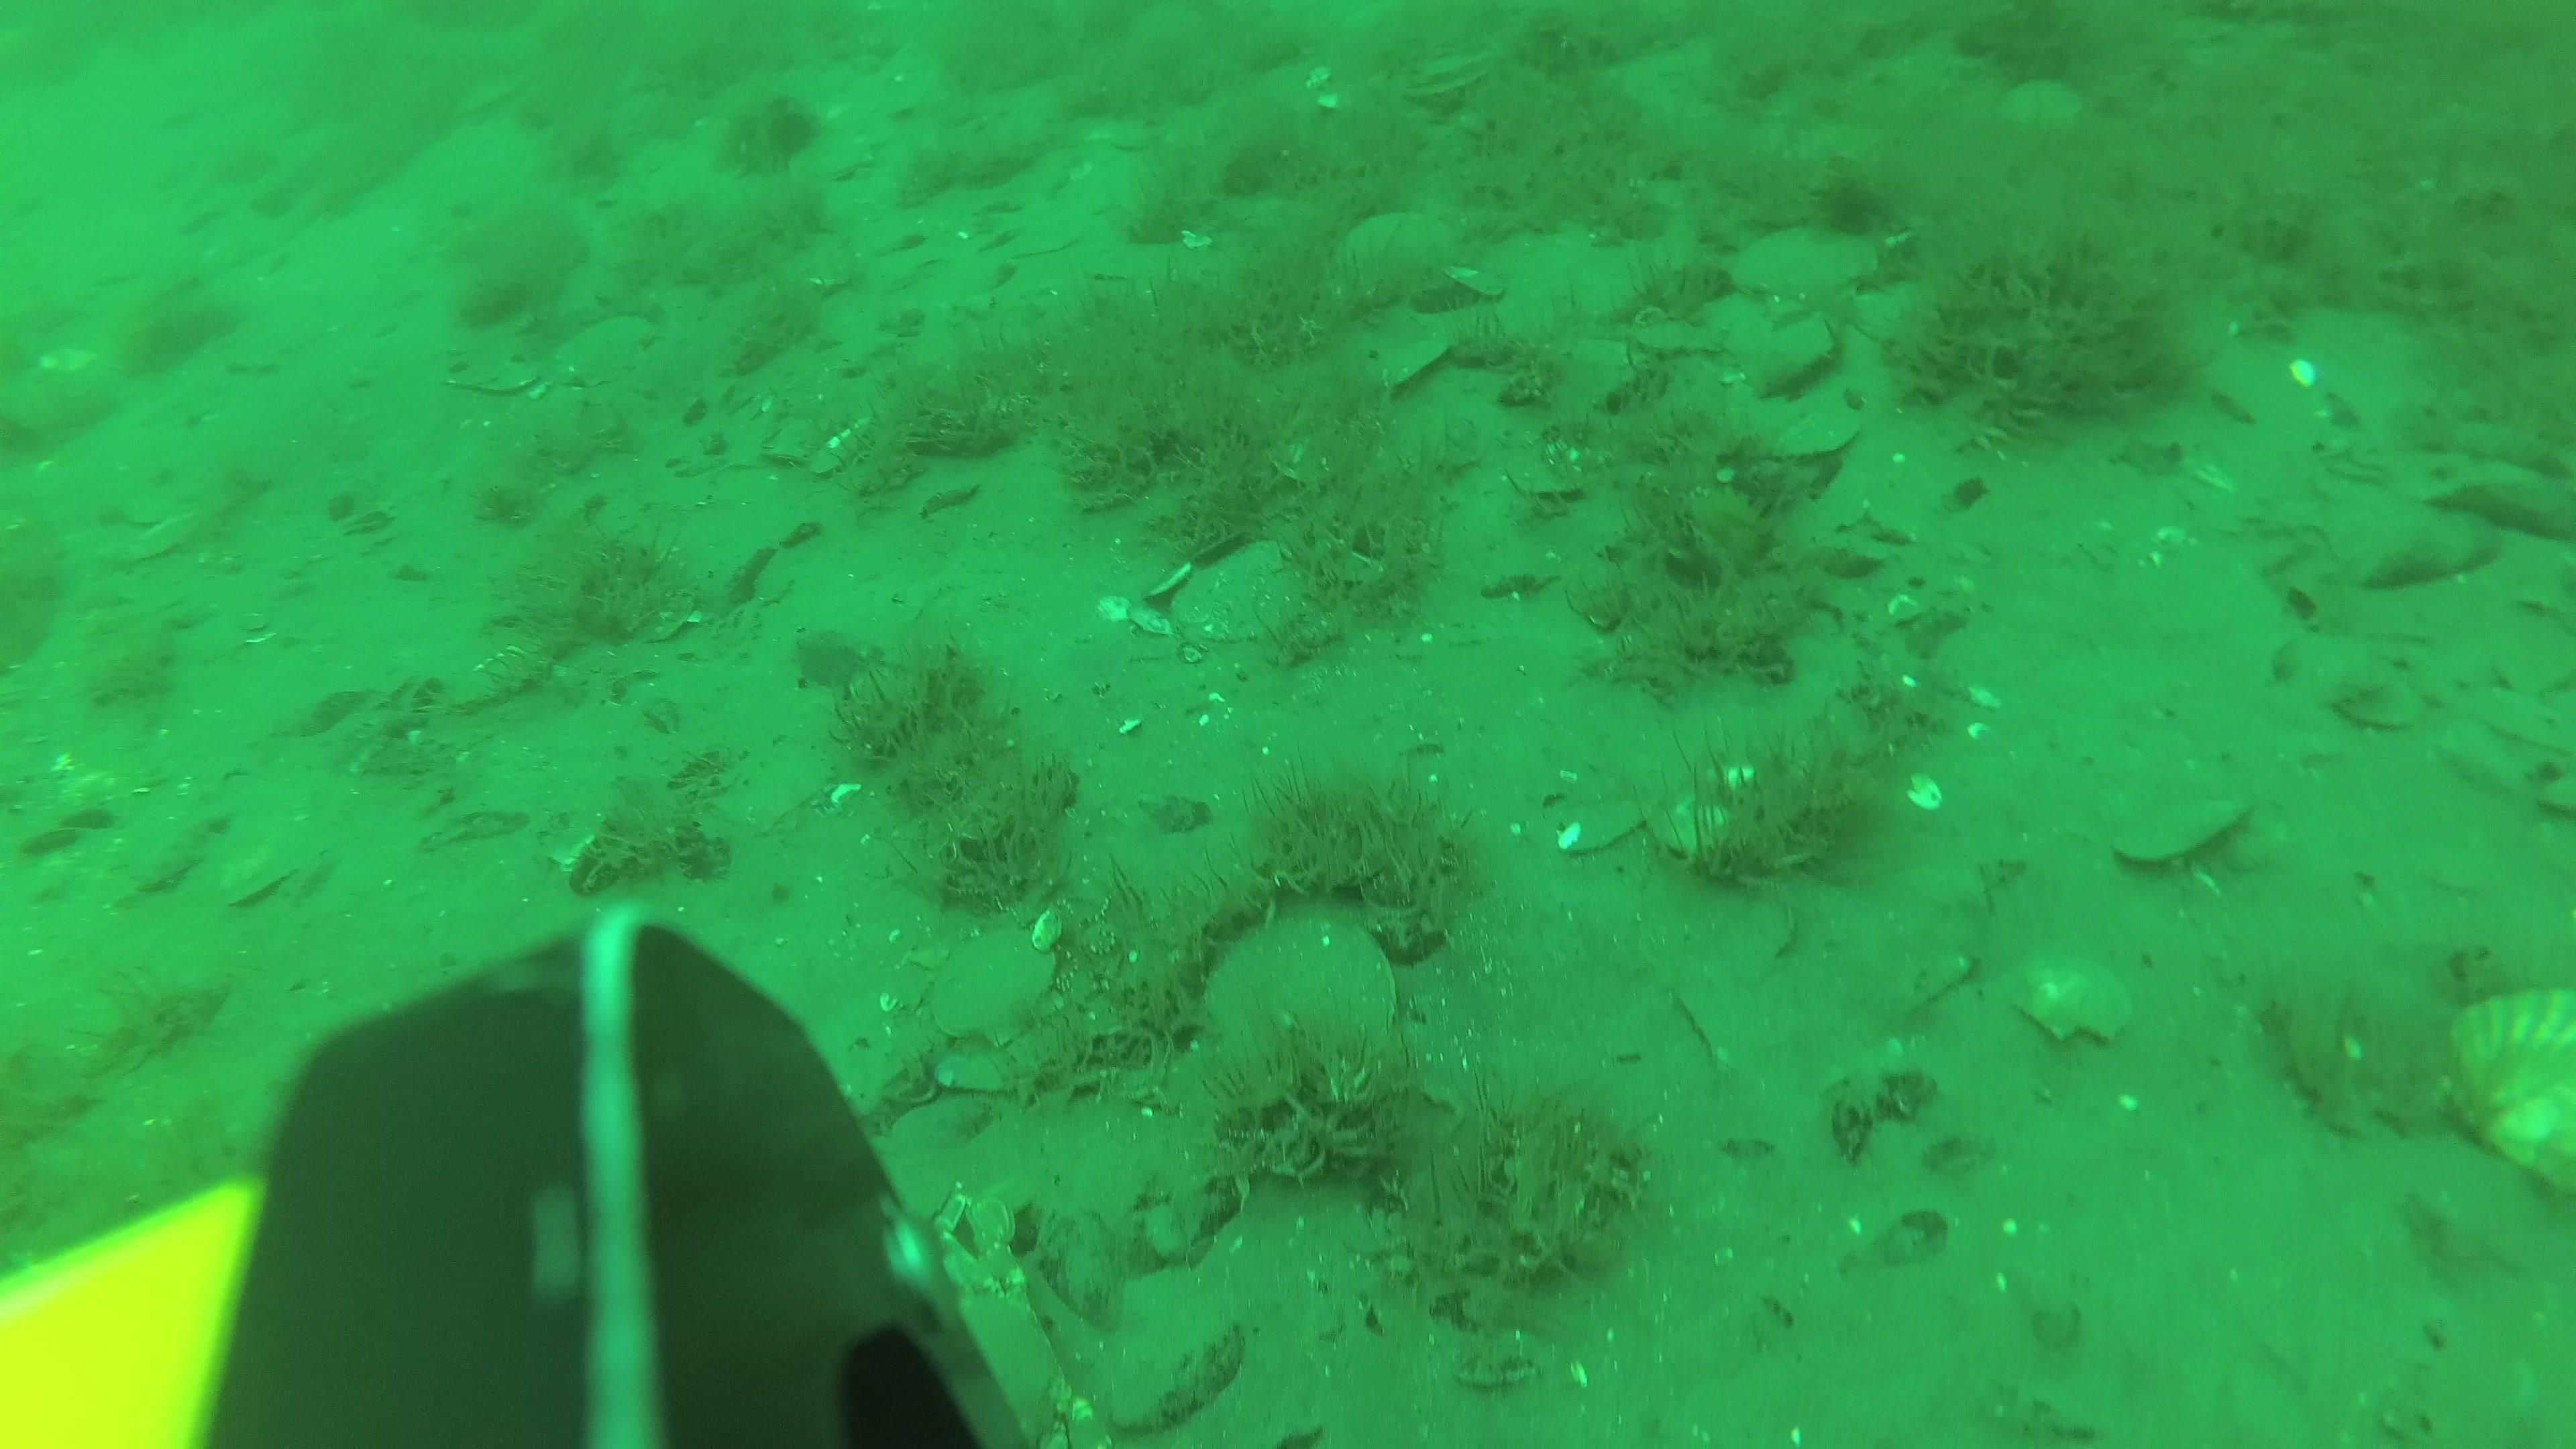scallop: (1191, 904, 1403, 1097), (2434, 984, 2576, 1205), (929, 929, 1079, 1060), (2263, 628, 2438, 736), (1736, 214, 1888, 329), (1168, 534, 1316, 648), (1327, 297, 1470, 407), (2006, 939, 2148, 1047), (1332, 203, 1472, 292), (2454, 671, 2576, 763), (543, 308, 660, 393), (1737, 306, 1840, 402), (2109, 807, 2258, 872), (1743, 400, 1872, 469), (1392, 42, 1513, 111), (1523, 801, 1649, 863), (1992, 71, 2097, 138), (1614, 317, 1730, 373), (1500, 458, 1585, 515), (1000, 225, 1079, 264)
